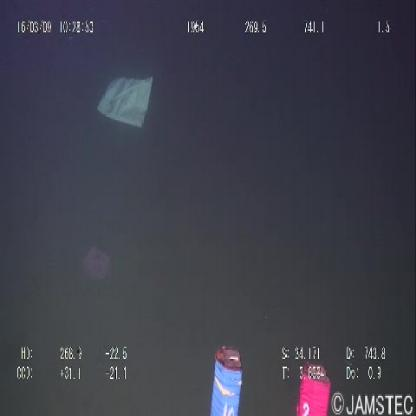Rác: (94, 71, 154, 131)
